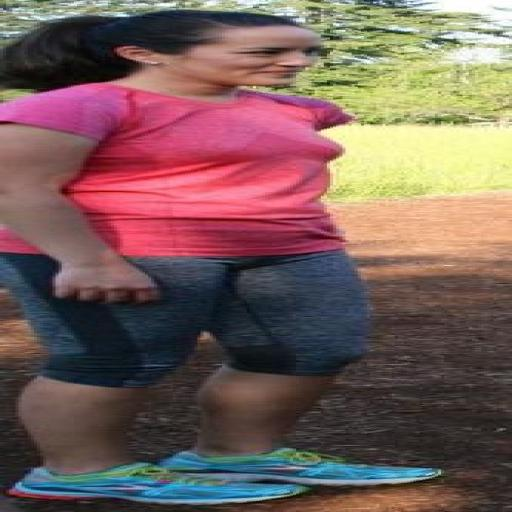person: (0, 10, 441, 504)
